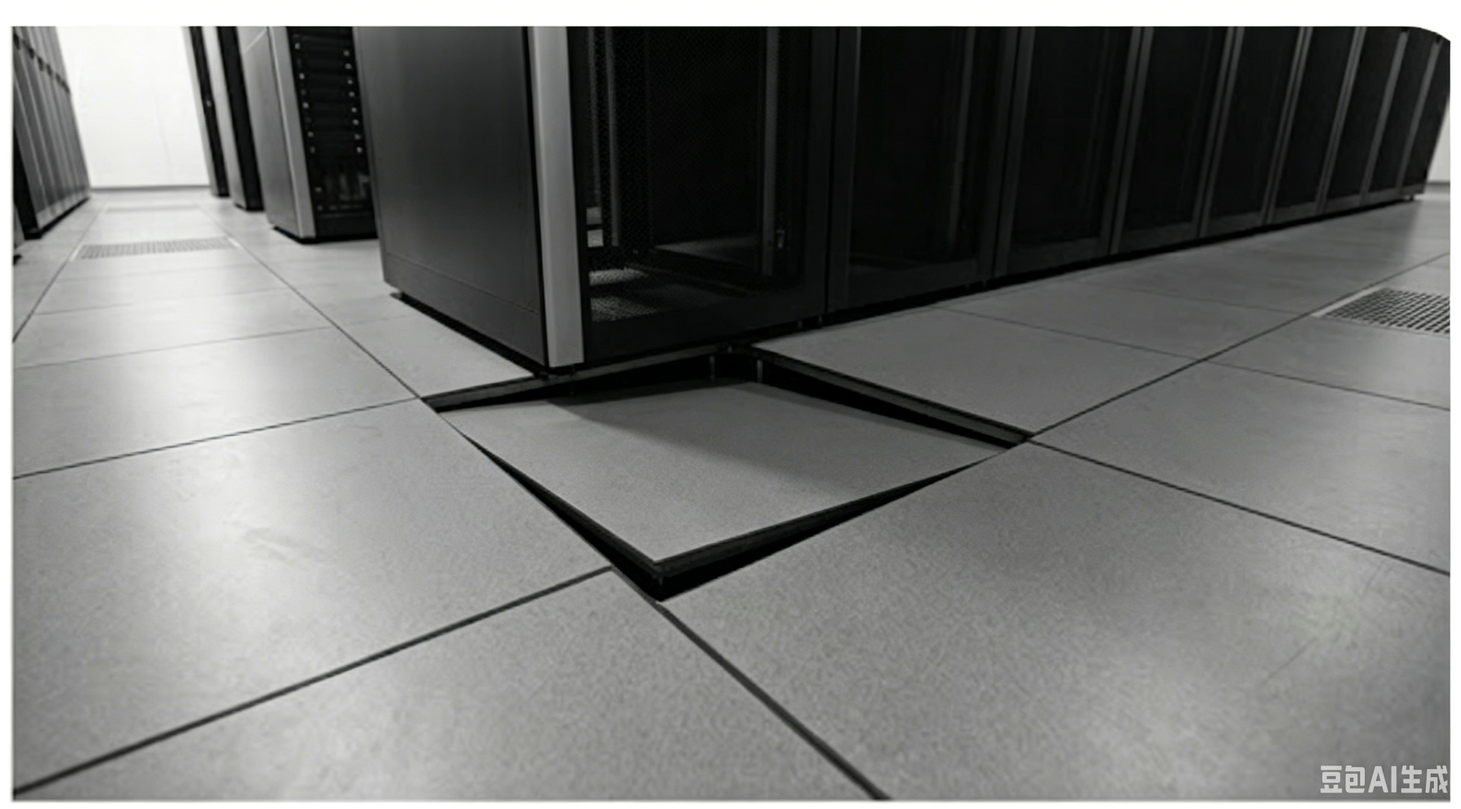floor_defect: (400, 358, 1033, 608)
